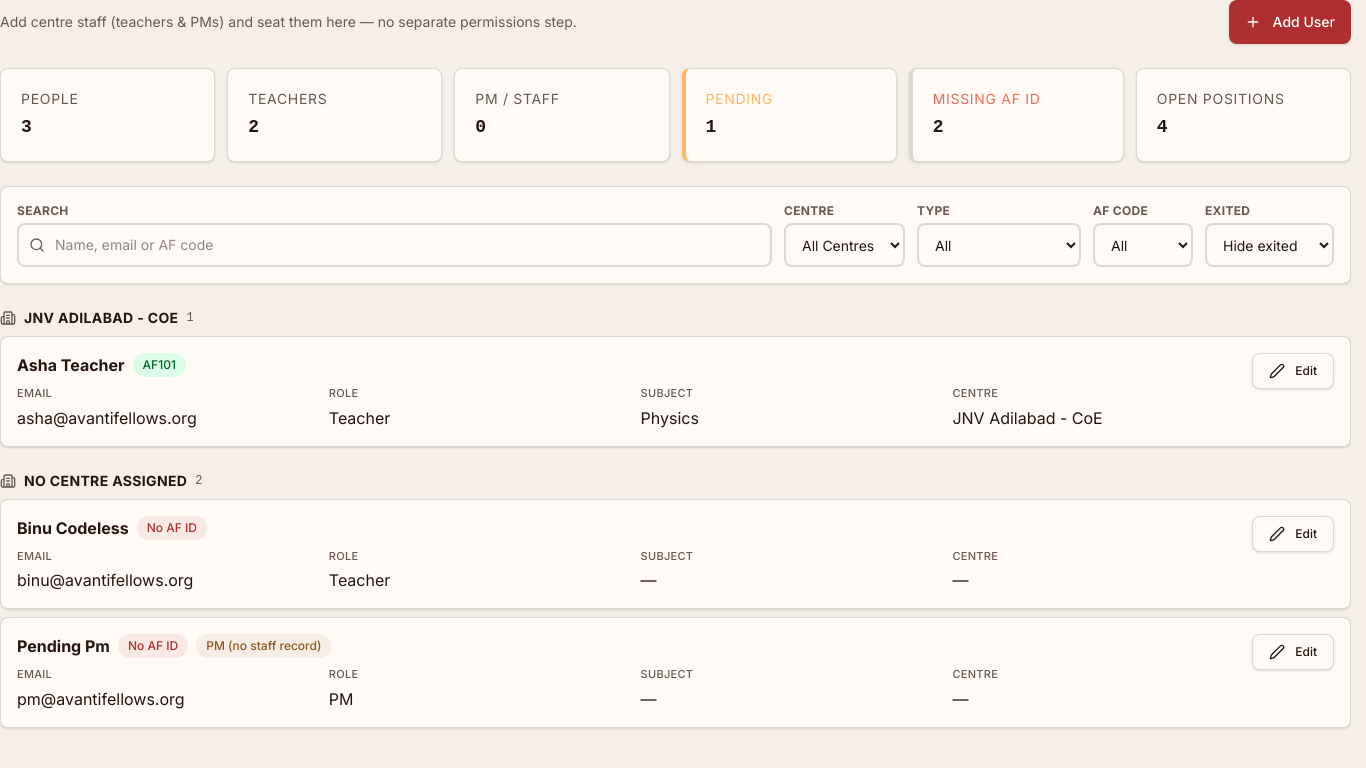
it: StaffGrid › surfaces action errors inside the modal
Click the button with aria-label "Edit Binu Codeless": (1293, 534) [1252, 516, 1334, 552]
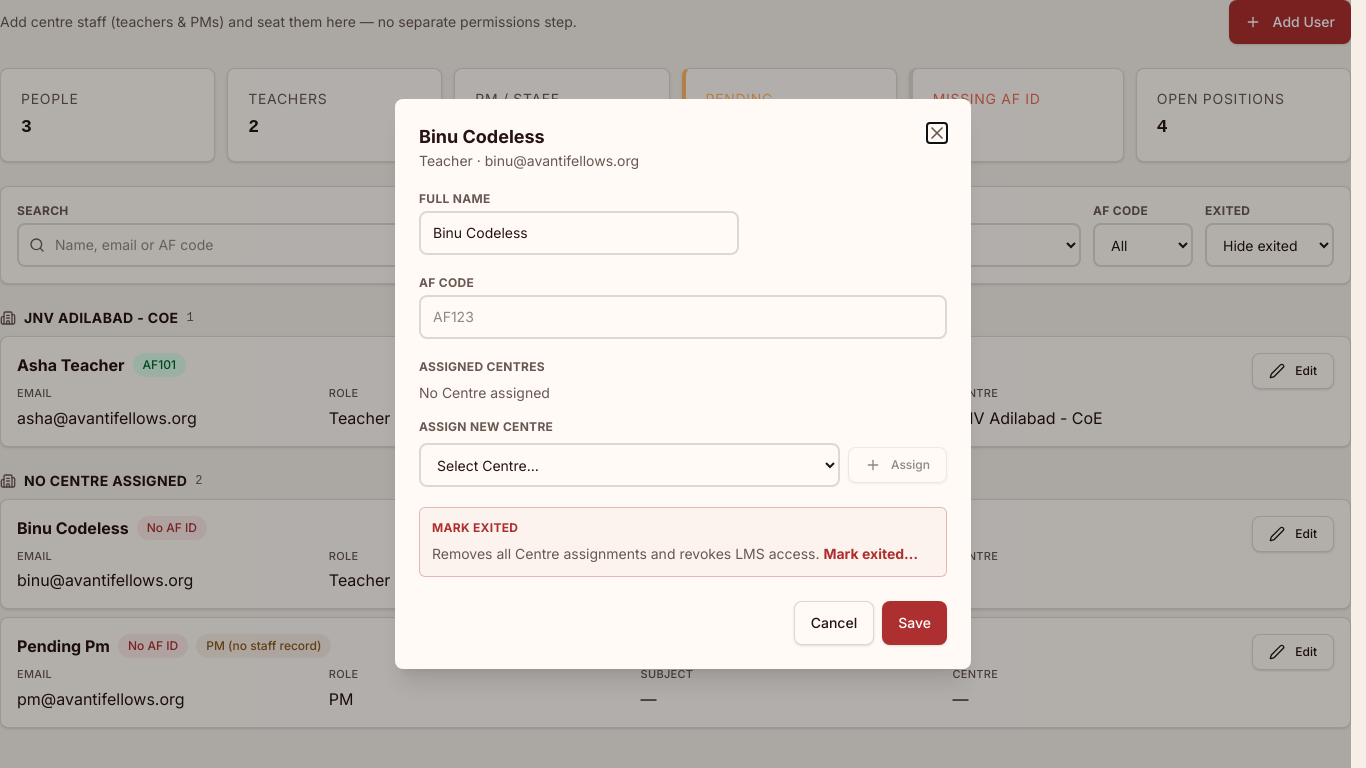
In the field named "Employee code": (683, 317) [419, 295, 947, 339], type "AF1"
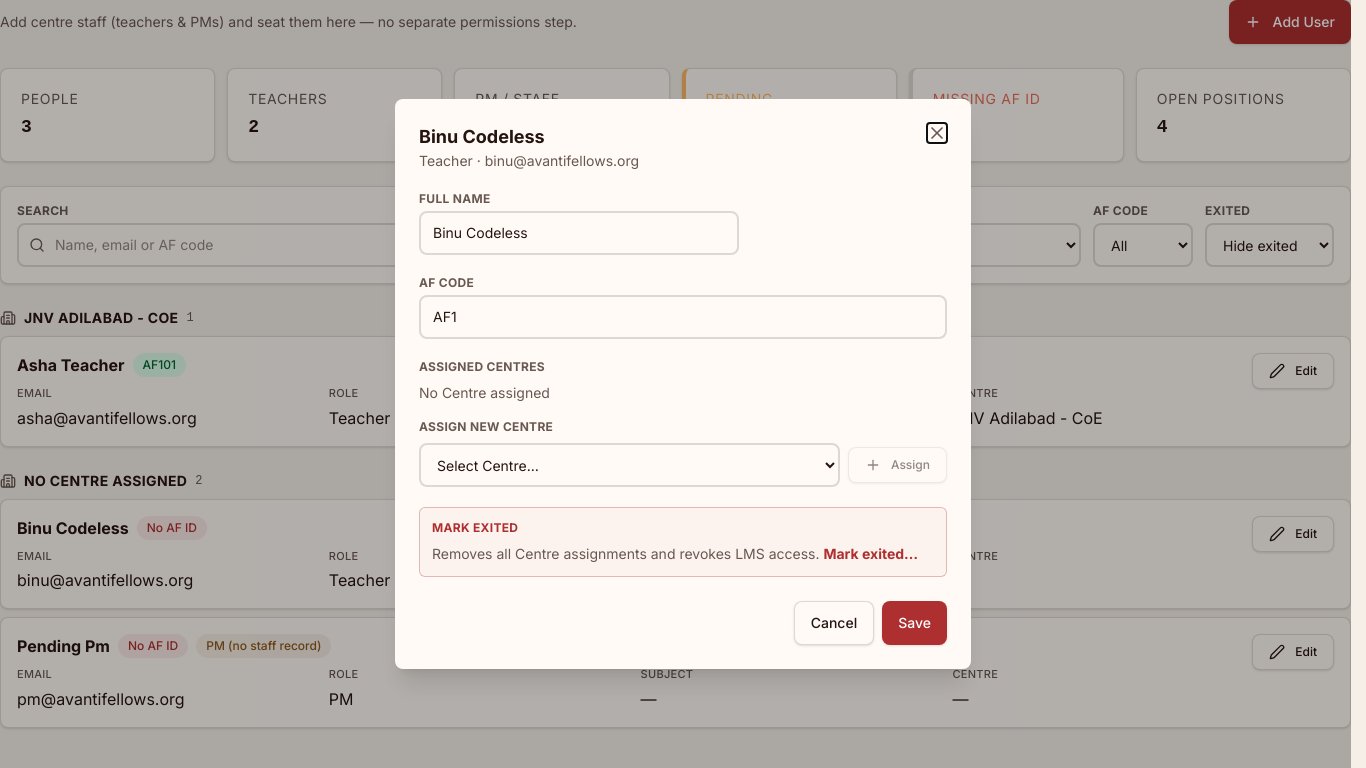
Click the button "Save": (915, 623) [882, 601, 947, 645]
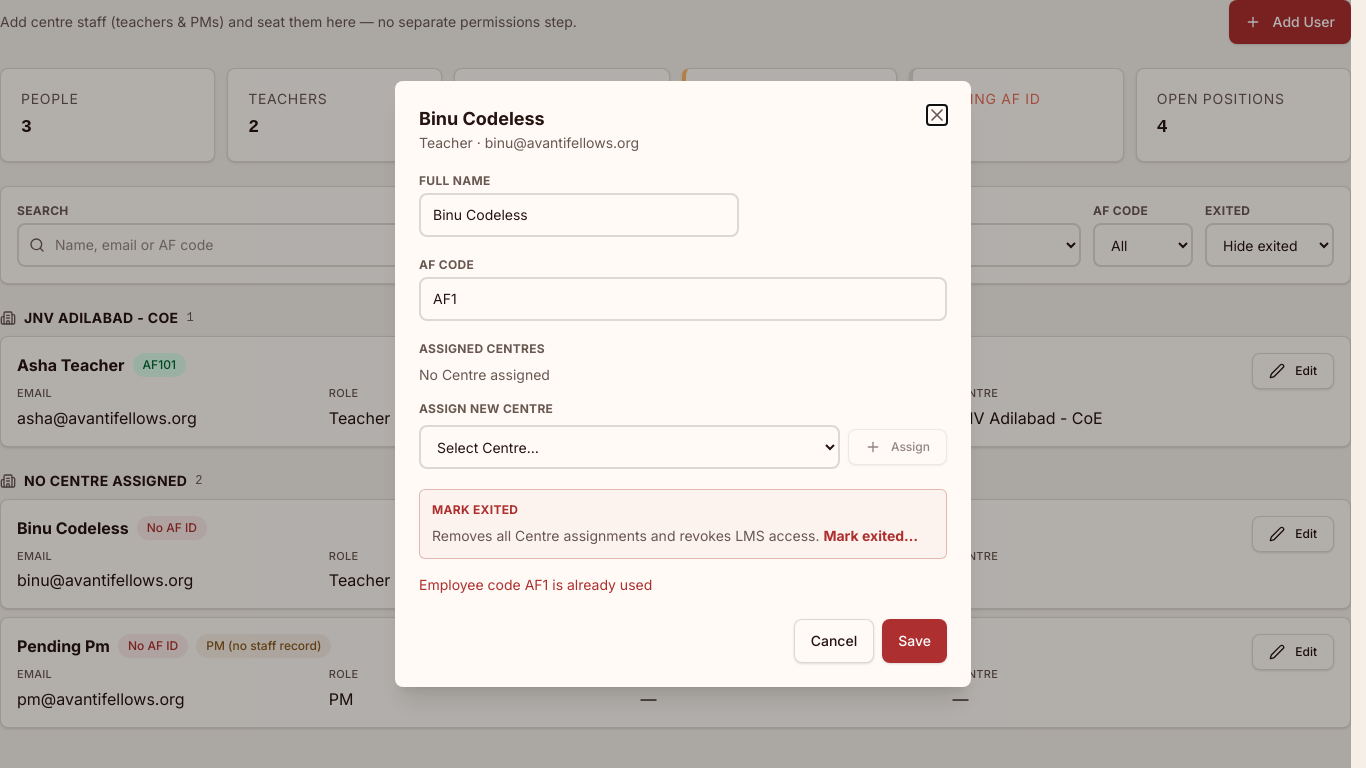
Expected: the text "Employee code AF1 is already used" is shown, [419, 576, 652, 593]
